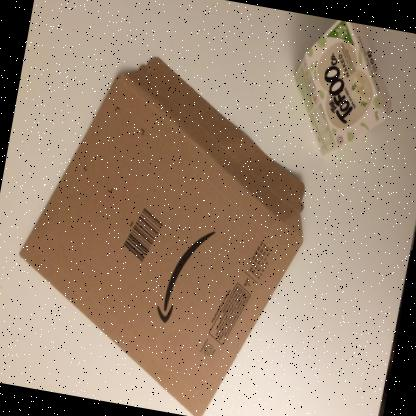Corrugated carton: (18, 56, 305, 416)
Other carton: (294, 20, 391, 156)
